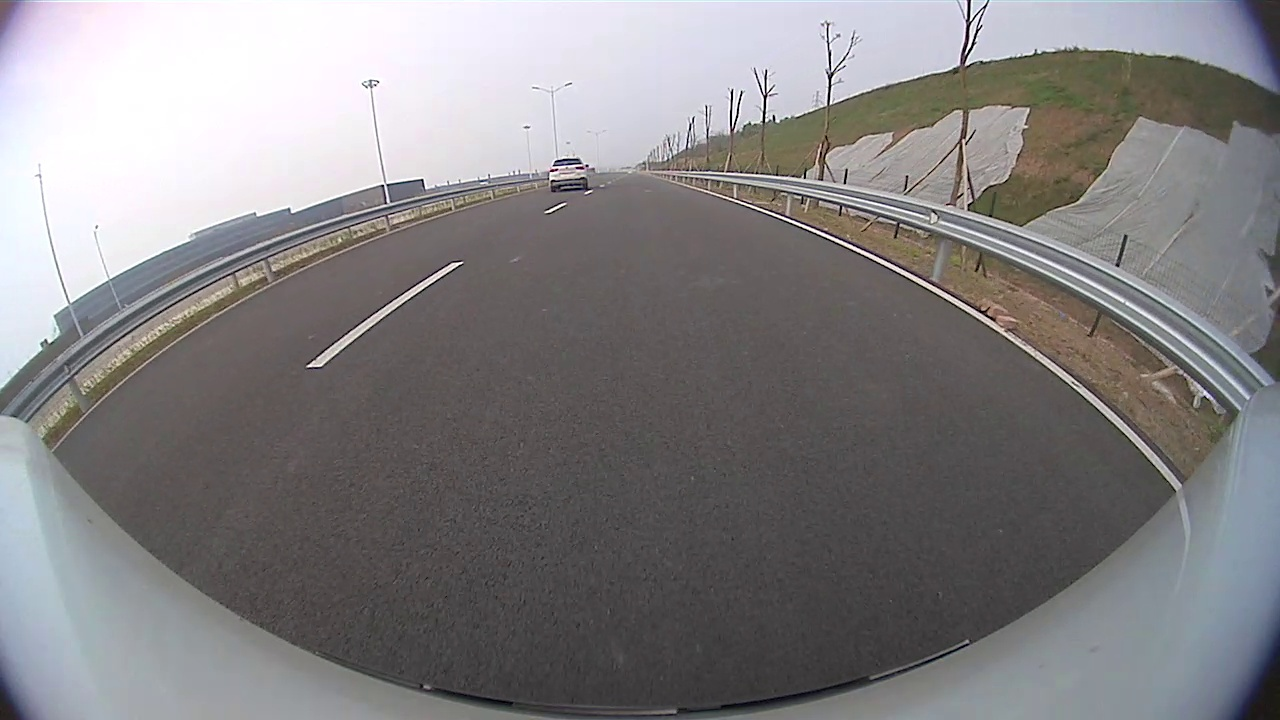car: (547, 155, 591, 195)
